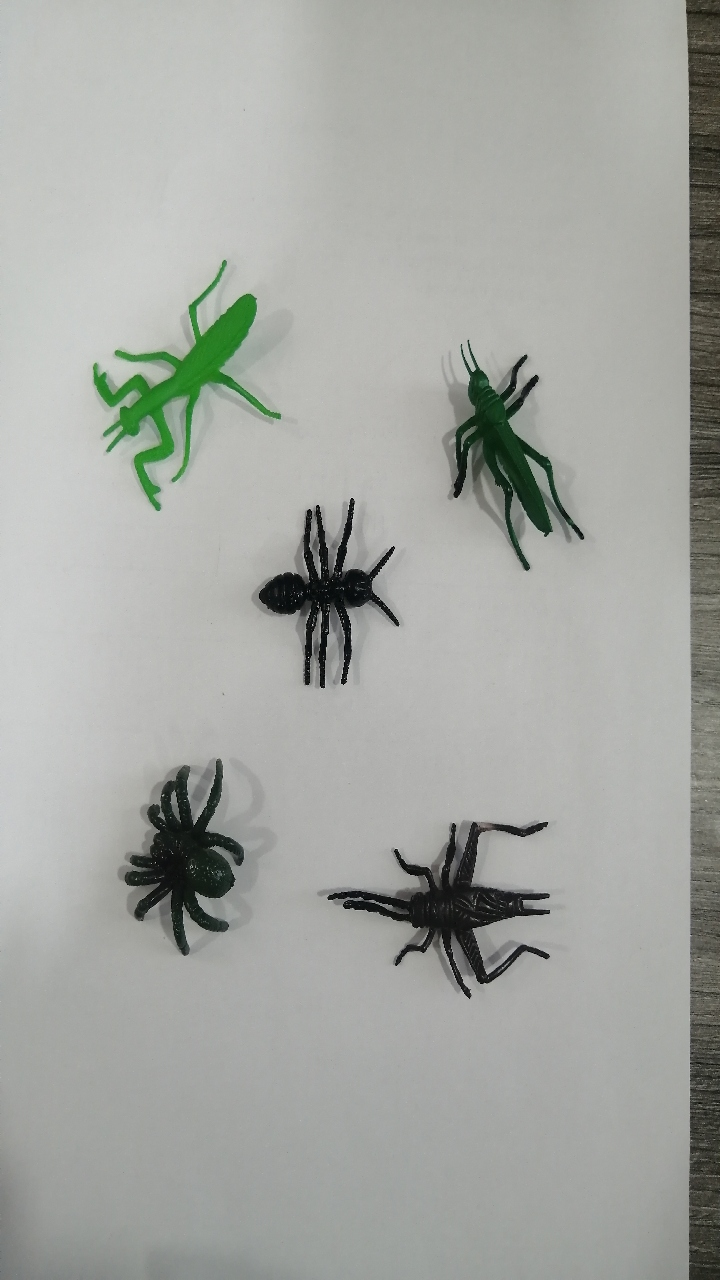intruso: (309, 774, 594, 1063), (38, 231, 304, 512), (81, 722, 294, 988), (409, 309, 595, 592), (231, 479, 455, 703)
